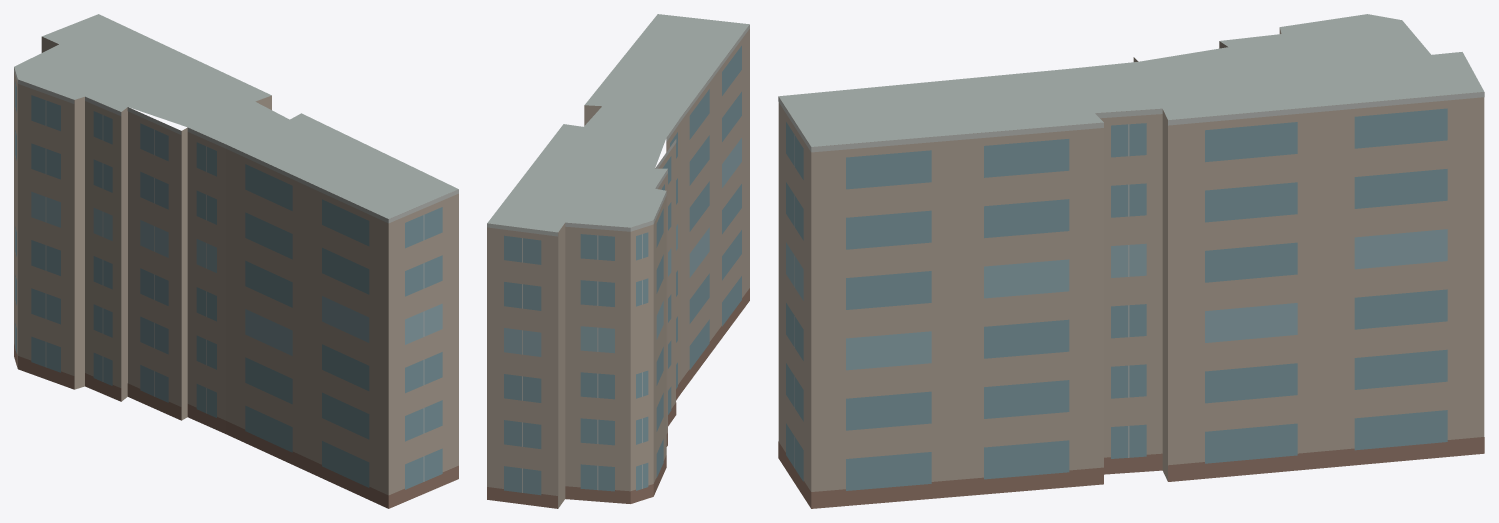
The model's file is survey-upis-32983316.glb.
3 renders of one model, left to right at view 1: azimuth 30°, elevation 25°; view 2: azimuth 150°, elevation 25°; view 3: azimuth 270°, elevation 25°, orthographic. The views are drawn at different scales.
Parts seen in each view (by area): view 1: survey-upis-32983316.tmp; view 2: survey-upis-32983316.tmp; view 3: survey-upis-32983316.tmp.
Part boxes in pixels (left/top/right/bottom): survey-upis-32983316.tmp: left=14, top=14, right=458, bottom=508; survey-upis-32983316.tmp: left=487, top=14, right=749, bottom=508; survey-upis-32983316.tmp: left=778, top=14, right=1484, bottom=508.
Bounding box in the file's own units: 12.9 × 16.35 × 28.92.
